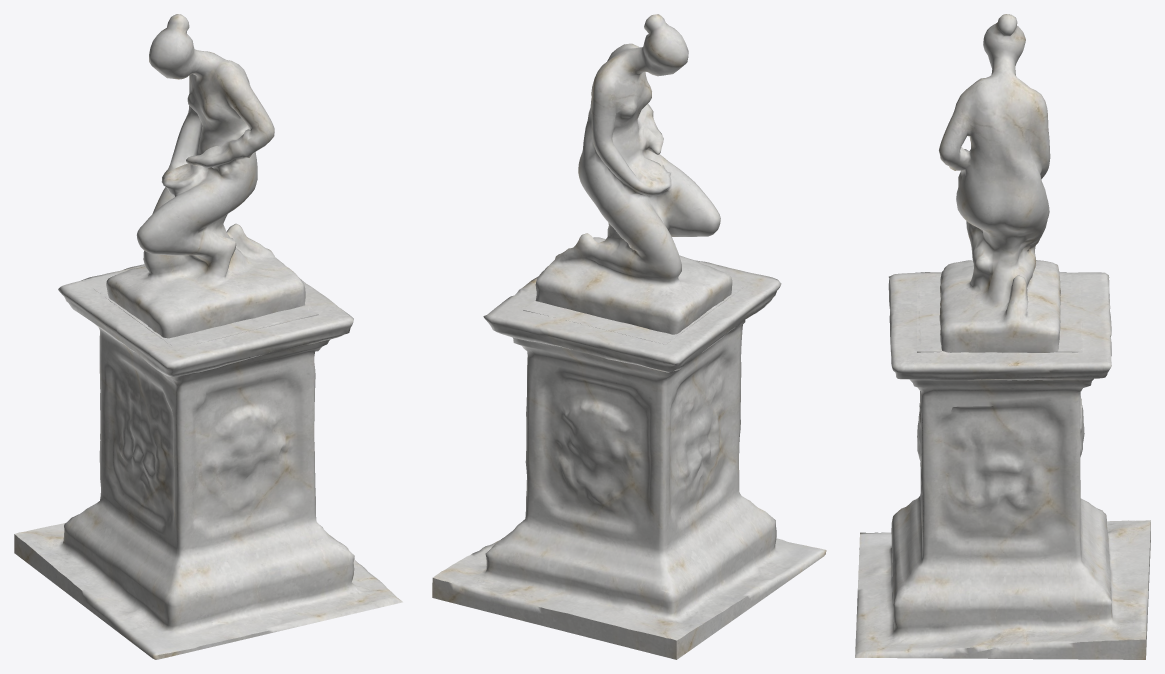
Rendered from NewStatue.fbx.
3 views of the same model, side by side, from view 1: azimuth 30°, elevation 25°; view 2: azimuth 150°, elevation 25°; view 3: azimuth 270°, elevation 25° (orthographic).
Visible parts, largest first — view 1: NewStatue_low; view 2: NewStatue_low; view 3: NewStatue_low.
Boxes of the visible parts, x1,y1,x2,y2 form: NewStatue_low: (14,14,402,659); NewStatue_low: (432,14,826,659); NewStatue_low: (855,14,1150,659).
Size of the model in its own units: 110 by 238 by 112.
Materials: 1 (1 with a texture image).
